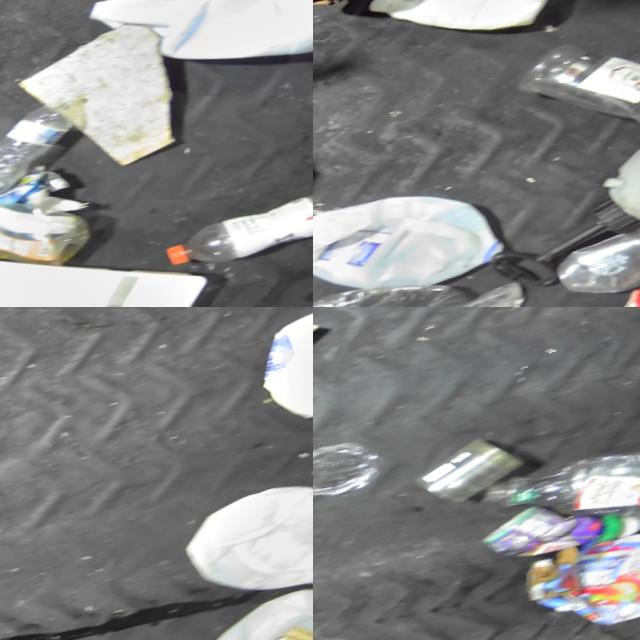can: (417, 426, 532, 507), (478, 495, 605, 566)
milk_jug: (313, 174, 510, 307), (80, 0, 313, 95), (171, 465, 313, 606), (356, 0, 564, 60), (243, 307, 313, 431), (176, 577, 313, 640)
plastic_bottle: (510, 15, 640, 163), (482, 437, 640, 543), (157, 185, 313, 283), (0, 175, 109, 298), (0, 85, 102, 203), (313, 270, 459, 307)
